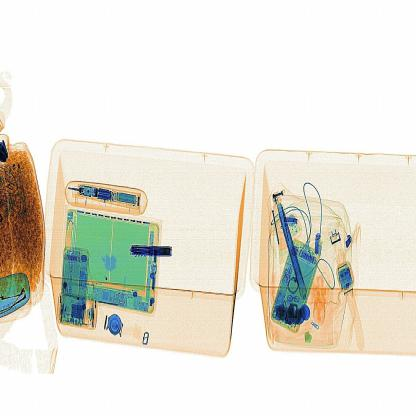scissors: (126, 237, 196, 268)
